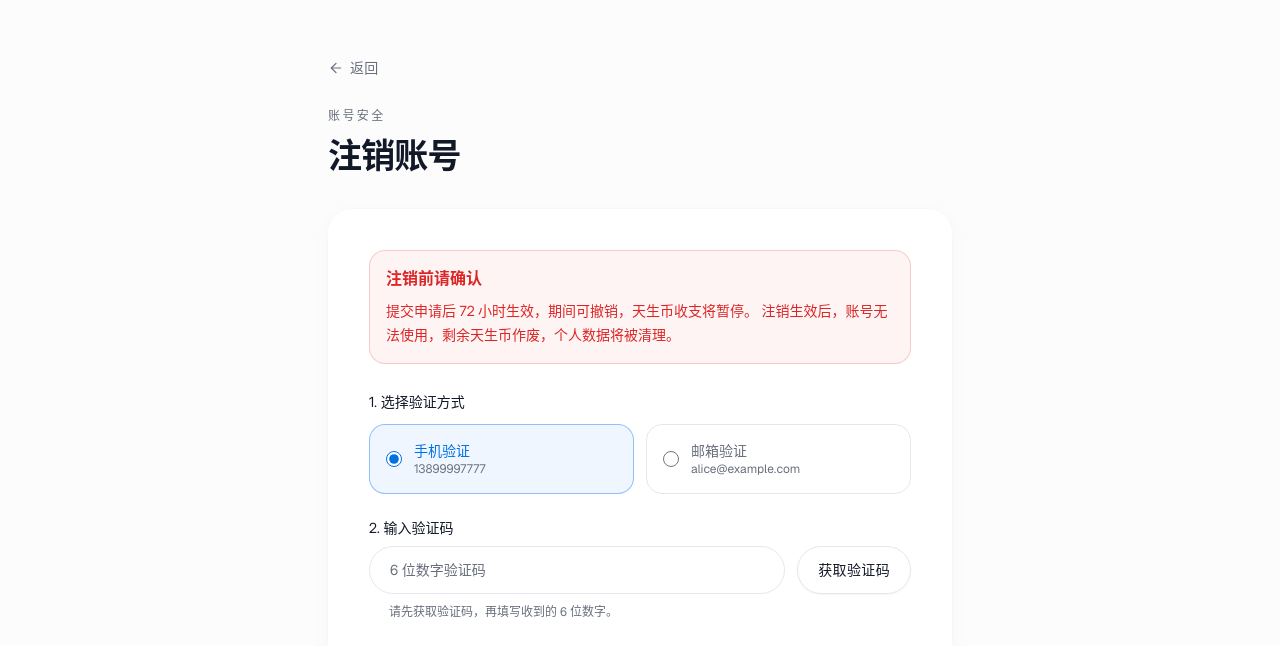
Test: 另一页撤销后，旧键重放的cancelled结果不冒充新申请成功
Click the button "获取验证码". click: (854, 570)
box: [797, 546, 911, 594]
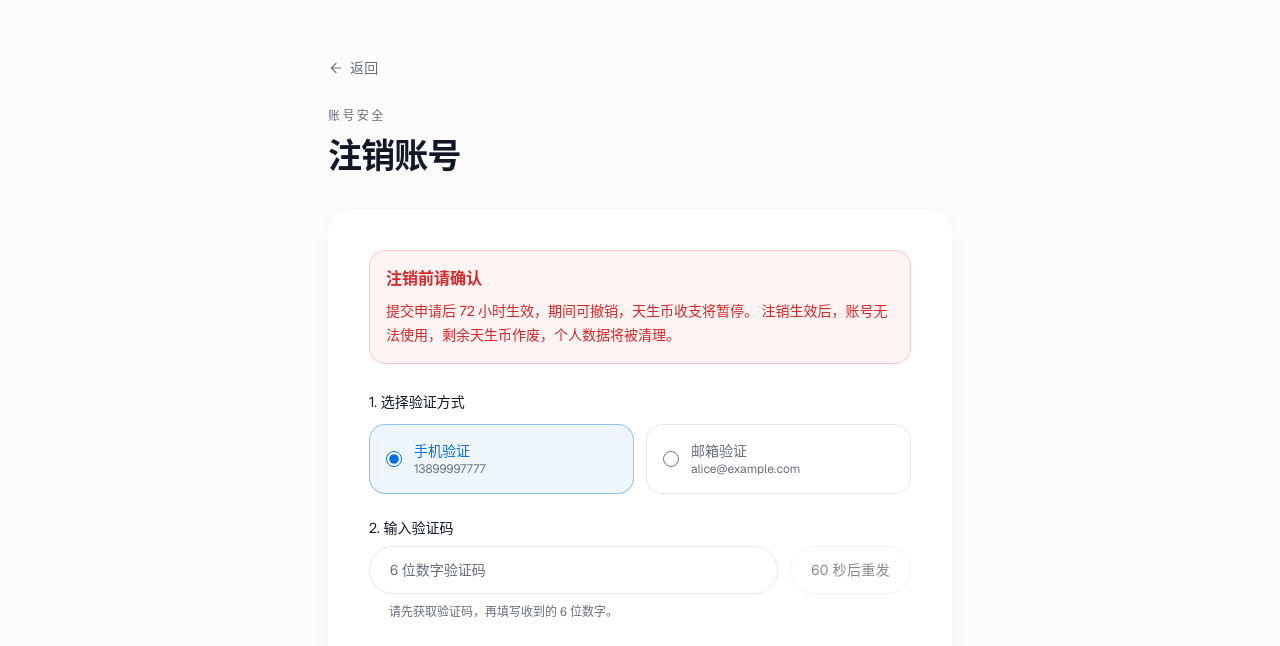
Type "000000" into the field with placeholder "6 位数字验证码". click: (574, 570)
box: [369, 546, 778, 594]
(page scrolled)
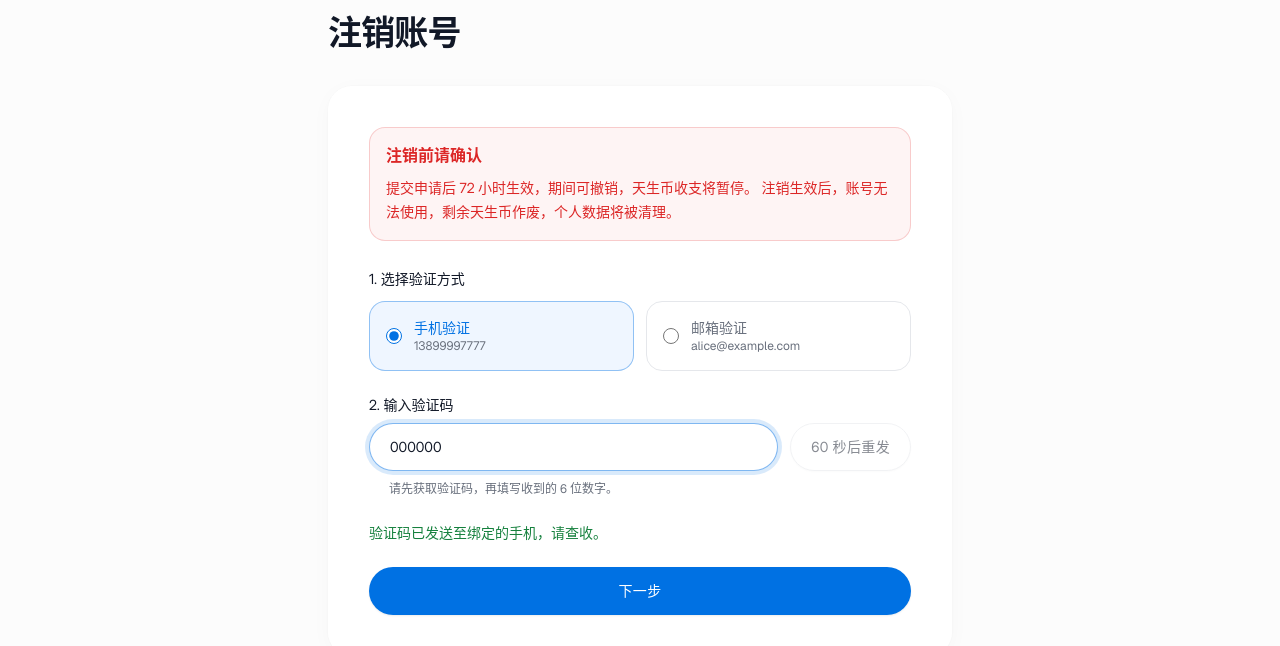
Click the button "下一步". click: (640, 591)
box: [369, 567, 911, 615]
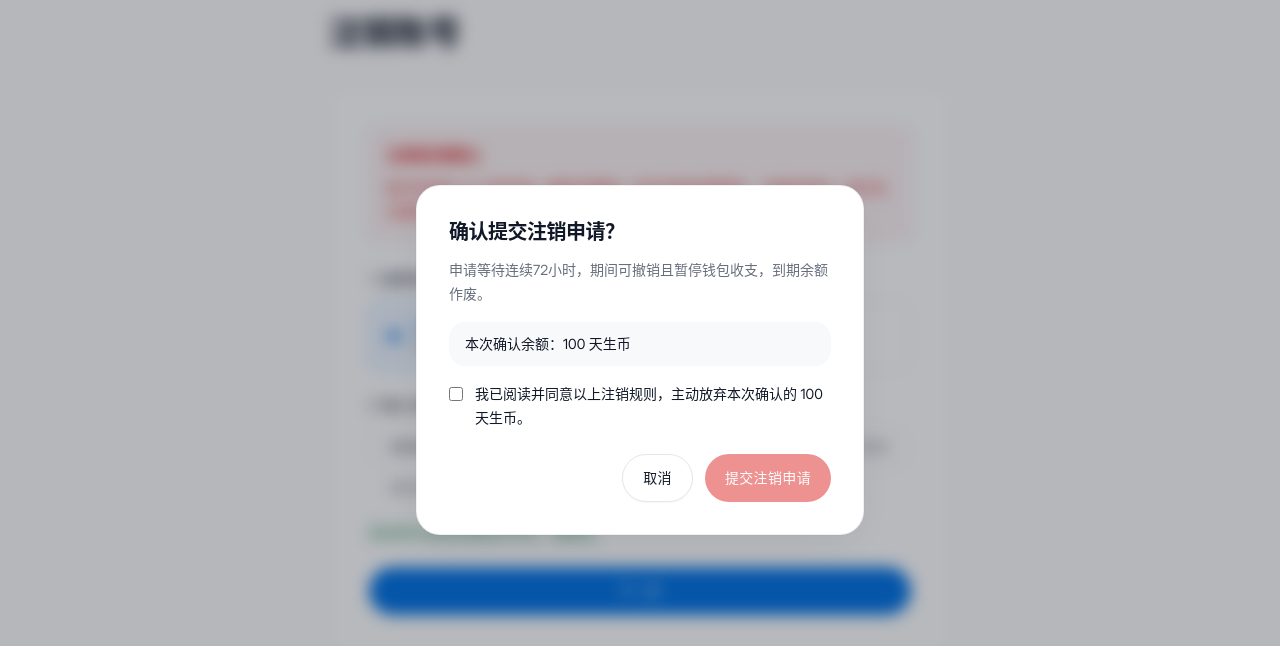
Click the checkbox. click: (456, 394)
box: [449, 386, 463, 402]
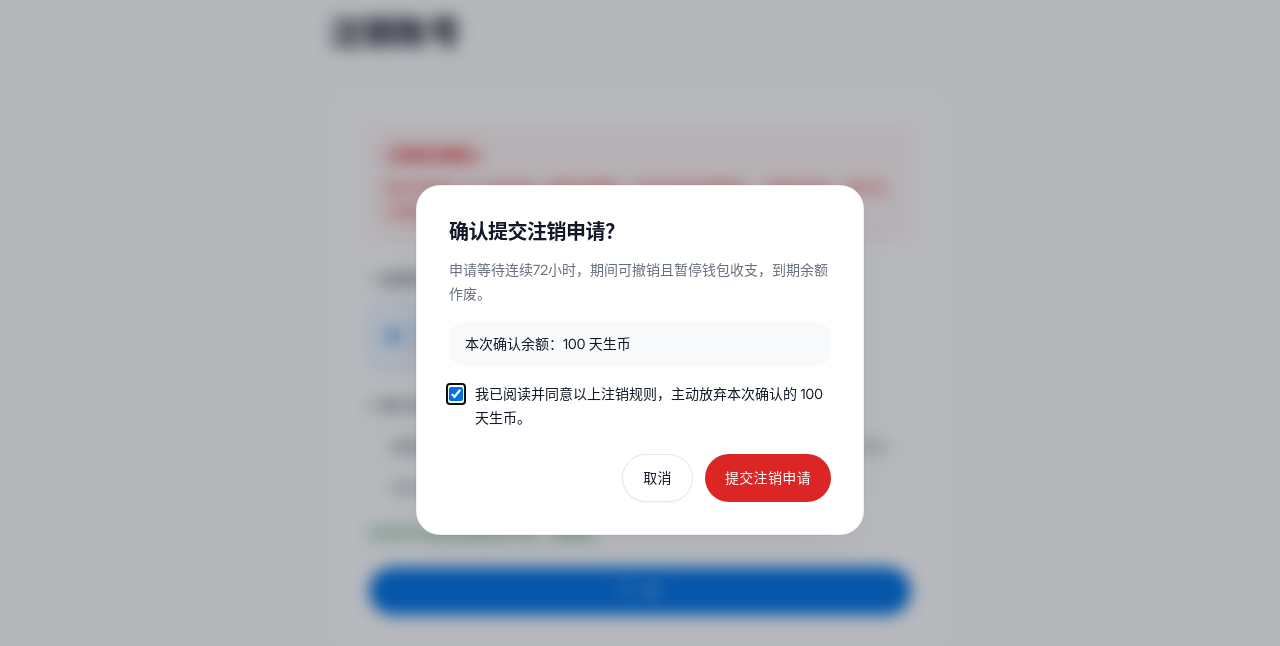
Click the button "提交注销申请". click: (768, 478)
box: [705, 454, 831, 502]
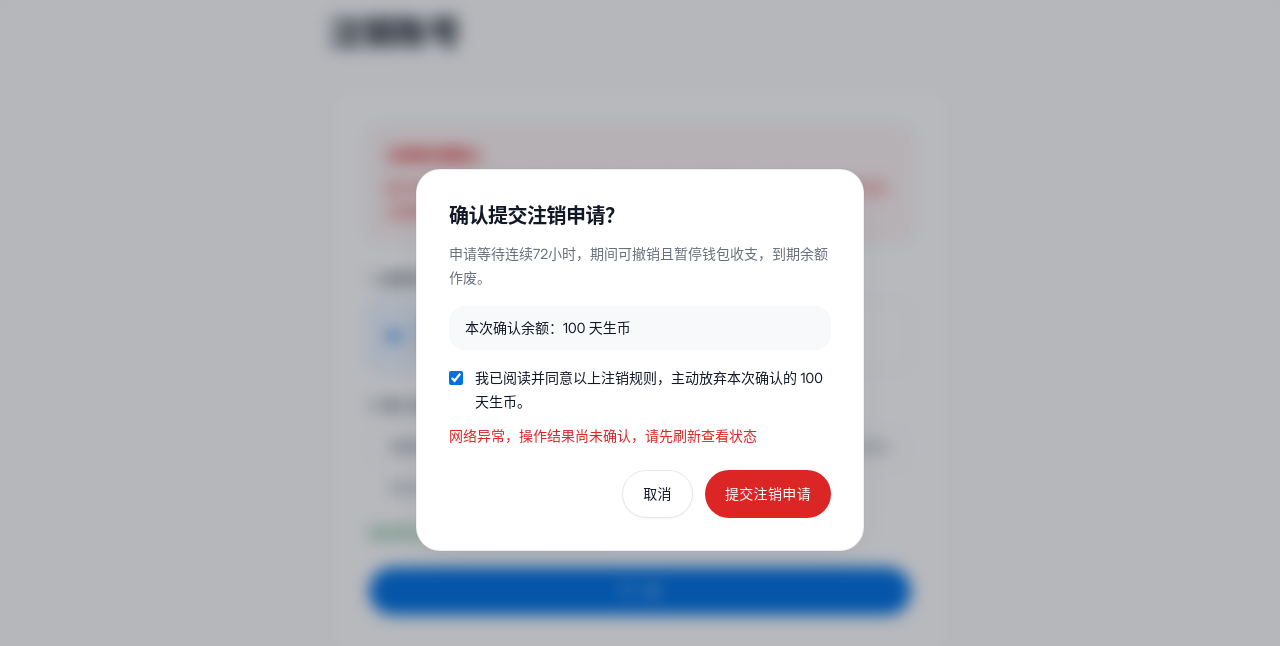
Now the button "提交注销申请" is enabled
Now the message "网络异常，操作结果尚未确认，请先刷新查看状态" is shown, box [449, 427, 757, 445]
Click the button "提交注销申请". click: (768, 494)
box: [705, 470, 831, 518]
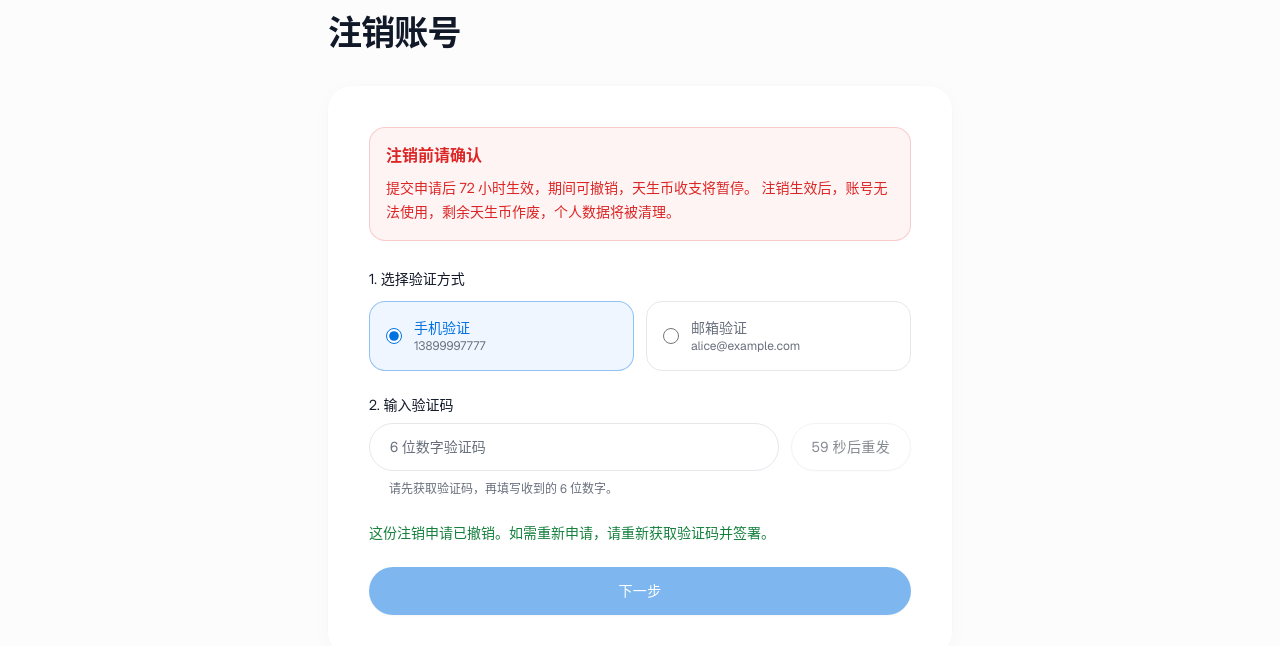
Now the dialog is gone
Now the message shows "已撤销", box [369, 524, 775, 542]
Now the field with placeholder "6 位数字验证码" is empty, box [369, 423, 779, 471]
